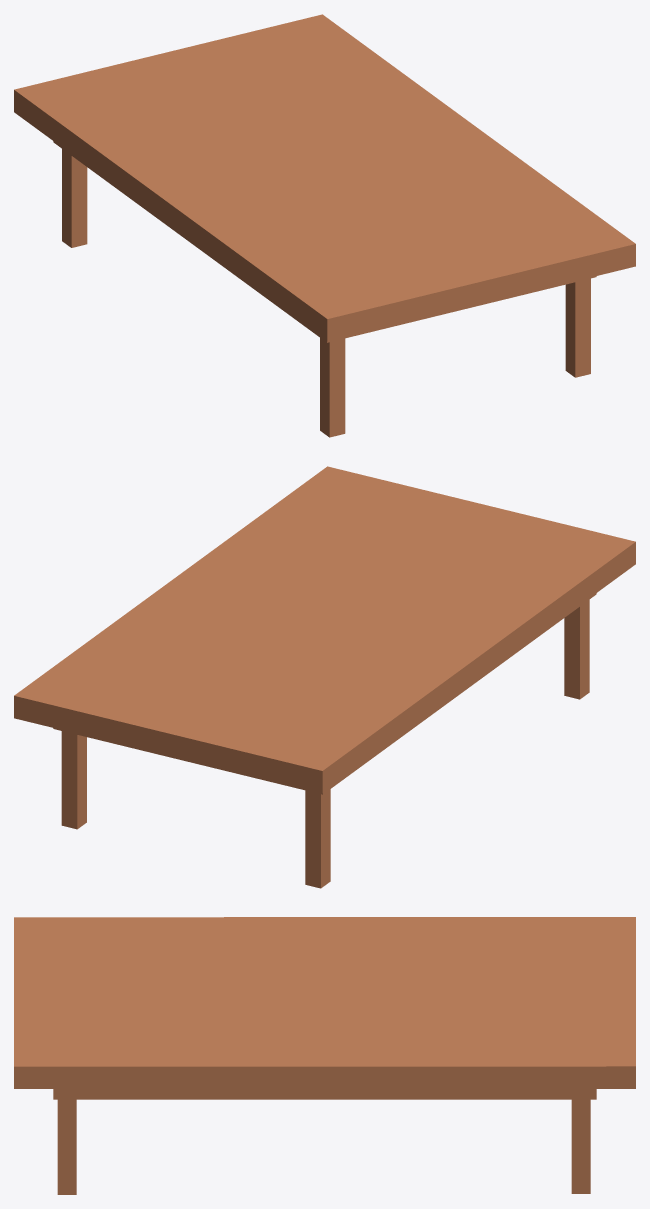
File: coffee_table.fbx
The picture shows the model from 3 angles, top to bottom: view 1: azimuth 30°, elevation 25°; view 2: azimuth 150°, elevation 25°; view 3: azimuth 270°, elevation 25°; orthographic projection.
Parts seen in each view (by area): view 1: Cube.102, Cube.122, Cube.125, Cube.123; view 2: Cube.102, Cube.123, Cube.124, Cube.122; view 3: Cube.102, Cube.125, Cube.124.
Boxes of the visible parts, x1,y1,x2,y2 form: Cube.102: [14, 14, 635, 342]; Cube.122: [320, 338, 345, 437]; Cube.125: [565, 278, 590, 377]; Cube.123: [62, 149, 87, 247]; Cube.102: [14, 466, 635, 794]; Cube.123: [305, 789, 330, 888]; Cube.124: [61, 731, 86, 829]; Cube.122: [564, 600, 589, 699]; Cube.102: [14, 917, 635, 1099]; Cube.125: [57, 1099, 76, 1194]; Cube.124: [571, 1099, 590, 1193].
Bounding box in the file's own units: 73.57 × 32.05 × 129.
